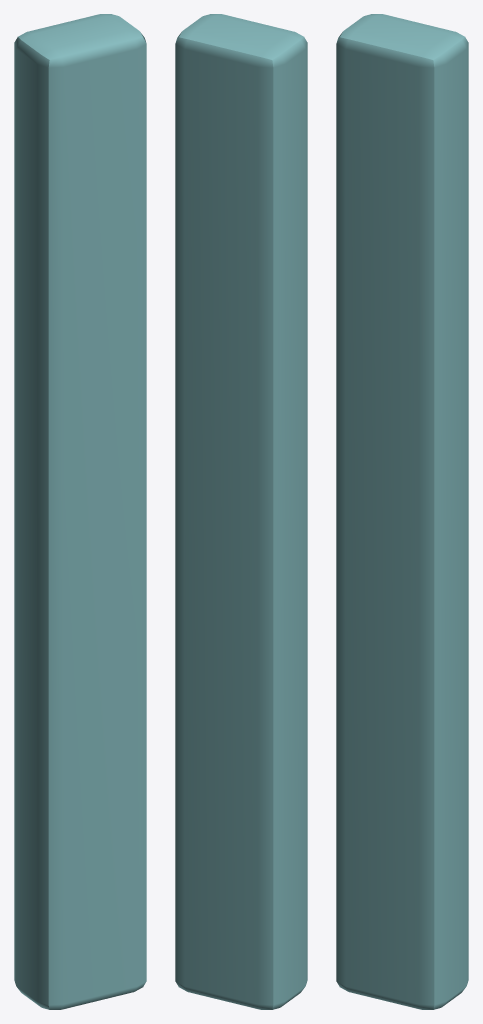
File: SmallHand.fbx
3 renders of one model, left to right at view 1: azimuth 30°, elevation 25°; view 2: azimuth 150°, elevation 25°; view 3: azimuth 330°, elevation 25°, orthographic.
Parts seen in each view (by area): view 1: pCube2; view 2: pCube2; view 3: pCube2.
Boxes of the visible parts, x1,y1,x2,y2 form: pCube2: (14, 14, 146, 1009); pCube2: (175, 14, 307, 1009); pCube2: (336, 14, 468, 1009).
Size of the model in its own units: 0.0437 by 0.3702 by 0.0282.
